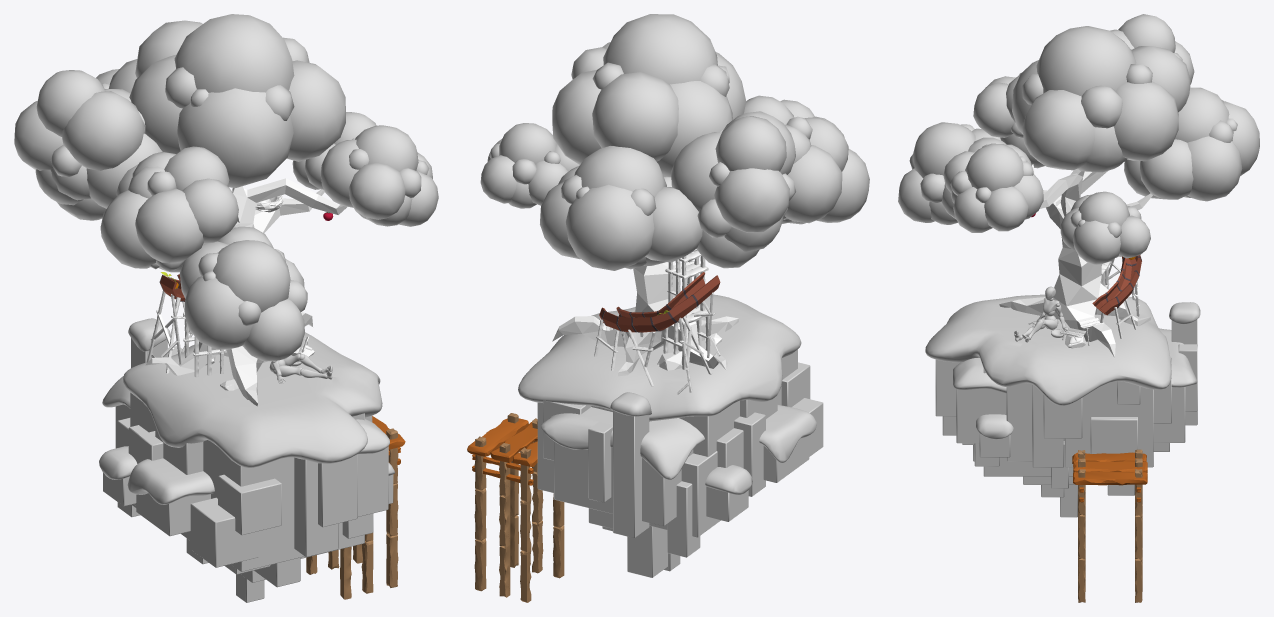
The model's file is Tree Of Eden.fbx.
The picture shows the model from 3 angles, left to right: view 1: azimuth 30°, elevation 25°; view 2: azimuth 150°, elevation 25°; view 3: azimuth 270°, elevation 25°; orthographic projection. The views are drawn at different scales.
Visible parts, largest first — view 1: Leaves_3, Grass_Big, Leaves_6, Leaves_1, Leaves_7, Leaves_2, Tree, Land_4, Pier, Land_39, Land_16, Land_10 (+19 smaller); view 2: Leaves_3, Grass_Big, Leaves_5, Leaves_6, Pier, Leaves_7, Leaves_4, Tree, Grass_Small_4, Land_6, Land_23, Slide (+18 smaller); view 3: Leaves_3, Grass_Big, Leaves_5, Leaves_2, Tree, Leaves_1, Leaves_4, Pier, Land_5, Leaves_7, Land_7, Land_8 (+19 smaller).
Part boxes in pixels (x1,y1,x2,y2): Leaves_3: (129,14,345,187); Grass_Big: (123,332,382,467); Leaves_6: (14,70,162,220); Leaves_1: (179,226,307,361); Leaves_7: (100,146,238,272); Leaves_2: (320,125,438,226); Tree: (145,178,347,406); Land_4: (190,440,304,571); Pier: (306,416,405,599); Land_39: (190,497,258,567); Land_16: (218,474,281,535); Land_10: (294,457,338,557); Leaves_3: (552,14,746,176); Grass_Big: (518,294,801,420); Leaves_5: (540,146,702,270); Leaves_6: (671,111,795,268); Pier: (467,413,564,602); Leaves_7: (743,95,848,223); Leaves_4: (480,123,579,208); Tree: (552,261,738,376); Grass_Small_4: (541,407,704,479); Land_6: (554,441,693,526); Land_23: (613,410,649,538); Slide: (599,272,720,332); Leaves_3: (1012,26,1190,172); Grass_Big: (925,294,1171,405); Leaves_5: (1124,87,1259,201); Leaves_2: (943,143,1043,232); Tree: (999,164,1152,357); Leaves_1: (898,122,1006,224); Leaves_4: (1060,191,1150,264); Pier: (1072,449,1147,602); Land_5: (1064,381,1153,467); Leaves_7: (973,72,1044,168); Land_7: (956,388,1006,443); Land_8: (1006,383,1032,461).
Bounding box in the file's own units: 682 × 1155 × 746.
